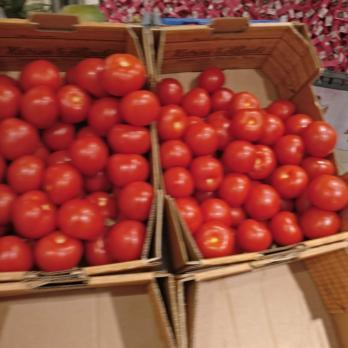Tomato: (3, 53, 150, 267), (160, 69, 339, 236)
